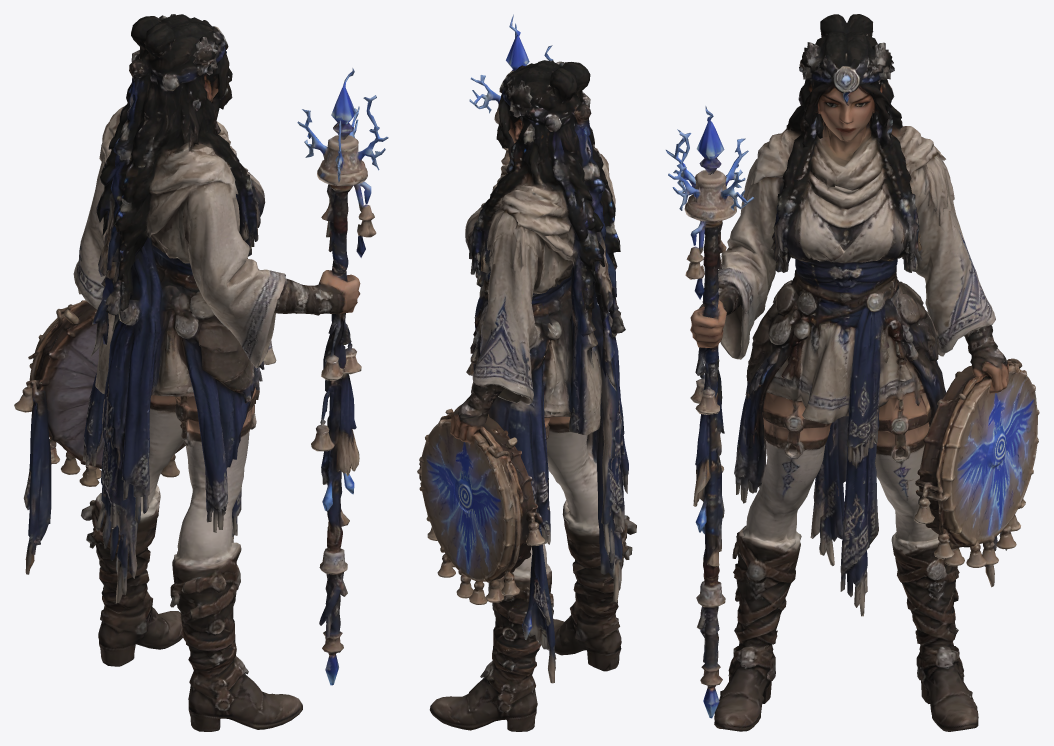
Rendered from drumcaller-SaltNomad-tripo.glb.
The picture shows the model from 3 angles, left to right: view 1: azimuth 30°, elevation 25°; view 2: azimuth 150°, elevation 25°; view 3: azimuth 270°, elevation 25°; orthographic projection. The views are drawn at different scales.
Parts seen in each view (by area): view 1: tripo_node_ed0be4f4-598d-4d0a-a62f-9841aaf1f405; view 2: tripo_node_ed0be4f4-598d-4d0a-a62f-9841aaf1f405; view 3: tripo_node_ed0be4f4-598d-4d0a-a62f-9841aaf1f405.
Boxes of the visible parts, <box> form: tripo_node_ed0be4f4-598d-4d0a-a62f-9841aaf1f405: <box>14,14,388,731</box>; tripo_node_ed0be4f4-598d-4d0a-a62f-9841aaf1f405: <box>417,14,636,731</box>; tripo_node_ed0be4f4-598d-4d0a-a62f-9841aaf1f405: <box>666,14,1039,731</box>.
Size of the model in its own units: 0.3301 by 1 by 0.4974.
1 material, 1 textured.
